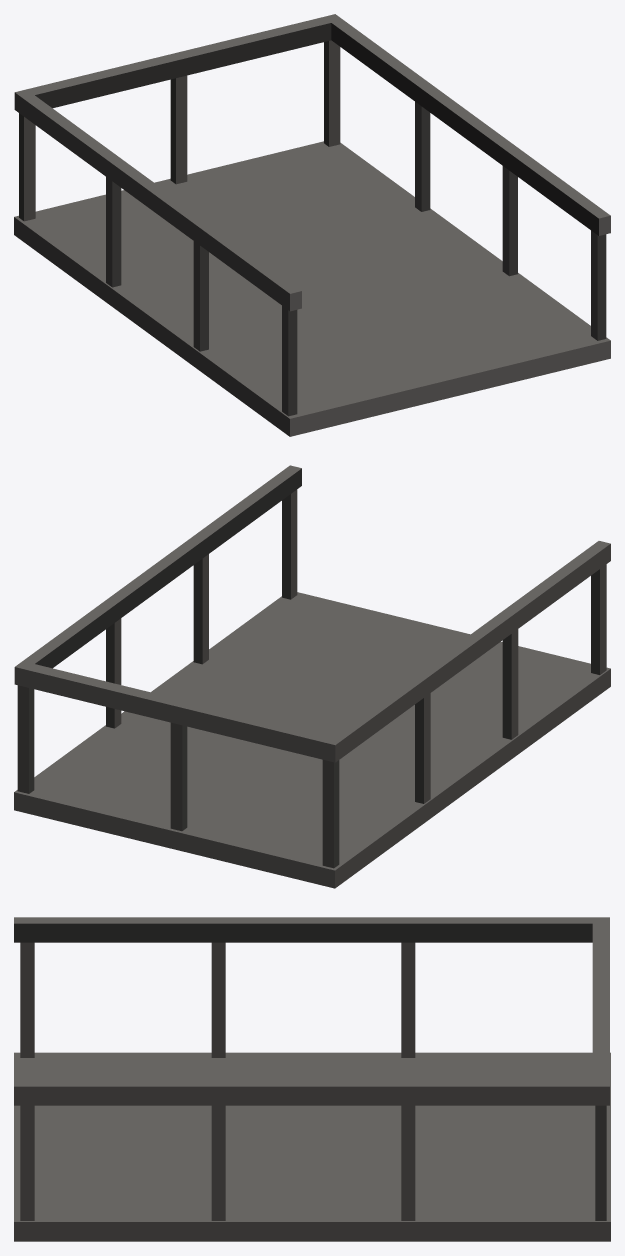
Rendered from SO_PaperTray_01.fbx.
3 renders of one model, top to bottom at view 1: azimuth 30°, elevation 25°; view 2: azimuth 150°, elevation 25°; view 3: azimuth 270°, elevation 25°, orthographic. The views are drawn at different scales.
Parts seen in each view (by area): view 1: SO_PaperTray_01; view 2: SO_PaperTray_01; view 3: SO_PaperTray_01.
Part boxes in pixels (x1,y1,x2,y2): SO_PaperTray_01: [14, 14, 610, 436]; SO_PaperTray_01: [14, 465, 610, 888]; SO_PaperTray_01: [14, 917, 610, 1241].
Bounding box in the file's own units: 0.5774 × 0.2458 × 0.8596.
